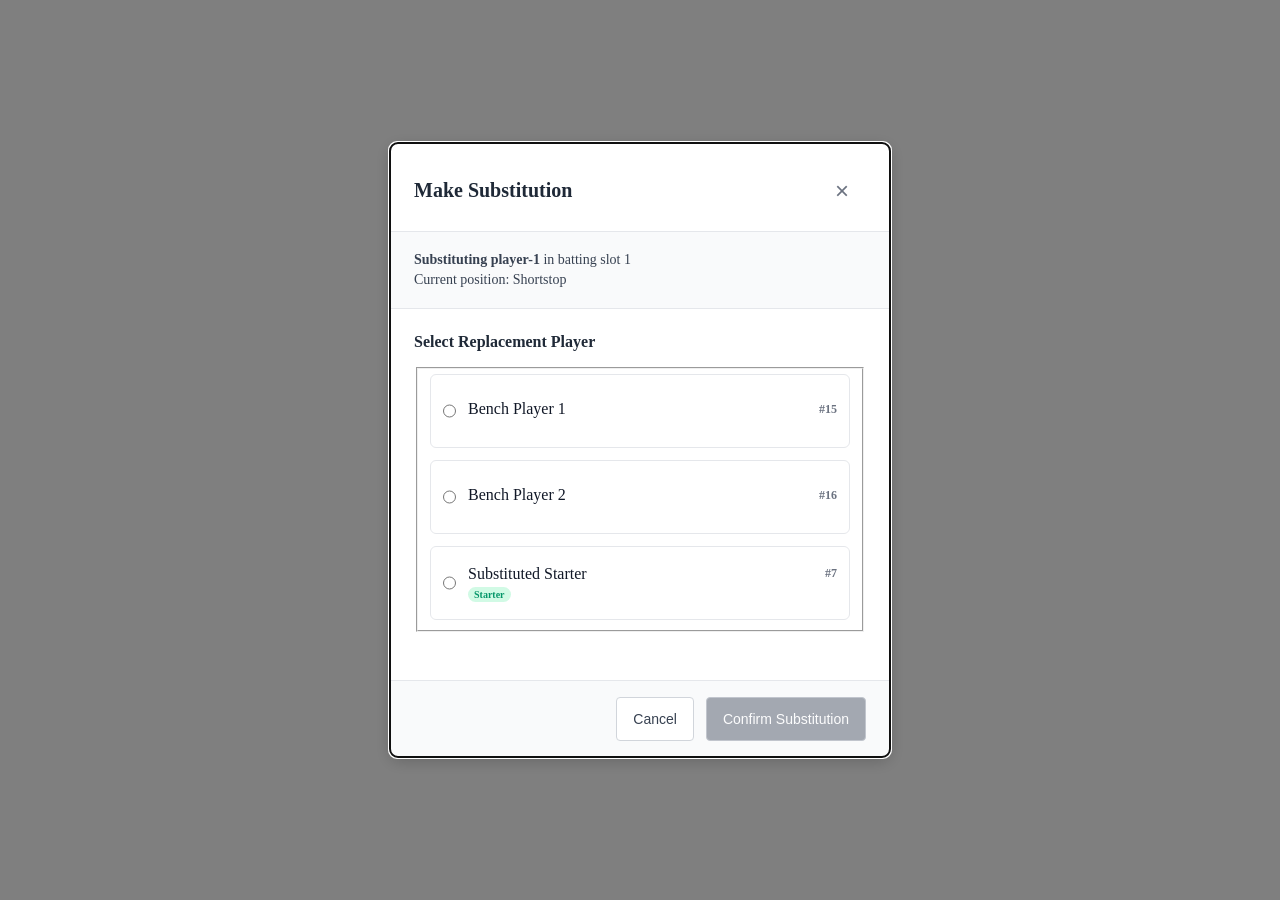
Test: SubstitutionDialog Component - TDD Implementation › Eligibility Validation › should show eligibility error with reason
What coordinates should you click on to do the following:
click the radio button labelled "Bench Player 1 #15"
I would click on:
 (450, 411)
Its box is x1=443 y1=387 x2=456 y2=435.
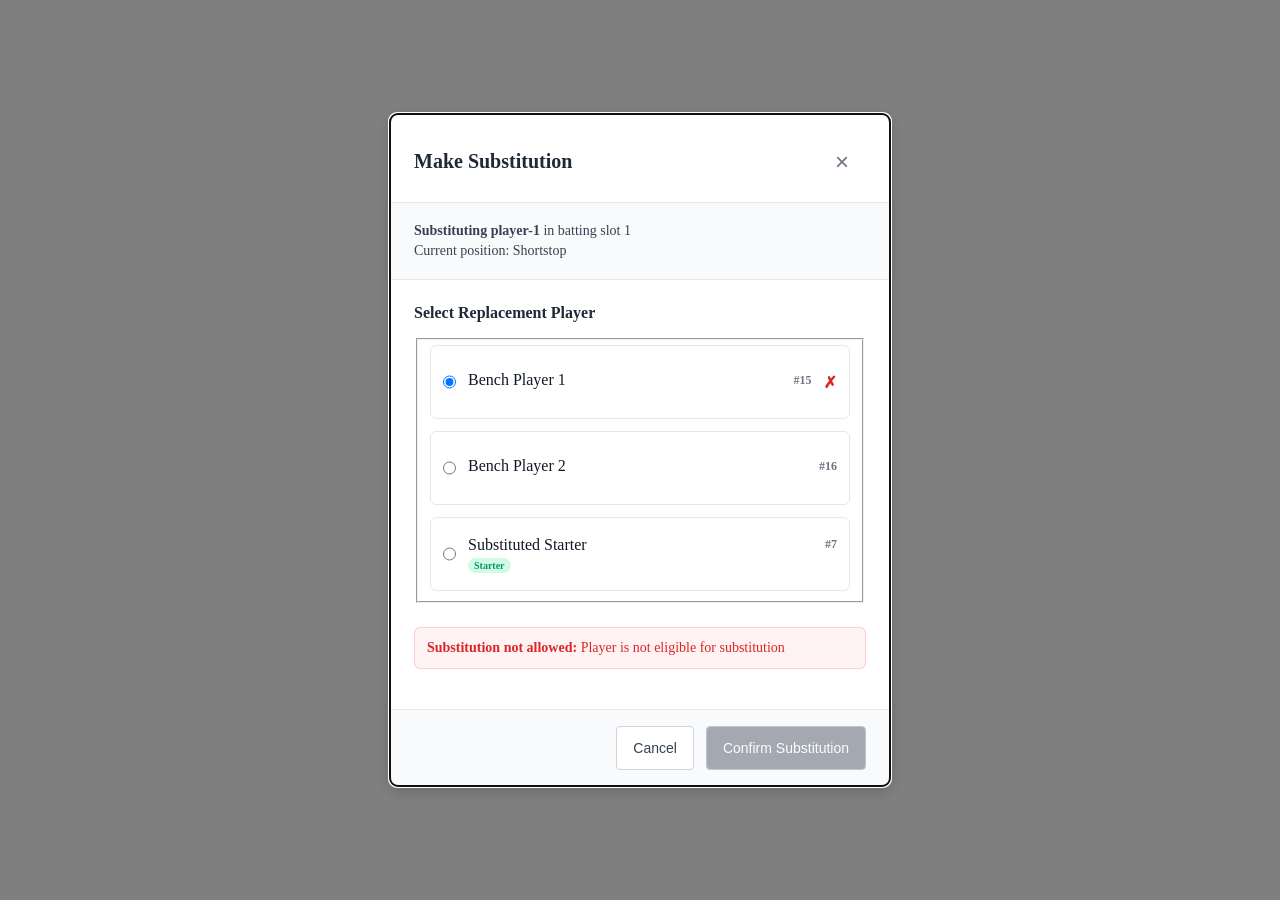
expect the text "Player is not eligible for substitution" is shown: met, box x1=581 y1=640 x2=785 y2=655
expect the picture named "not eligible" is shown: met, box x1=824 y1=373 x2=837 y2=392
